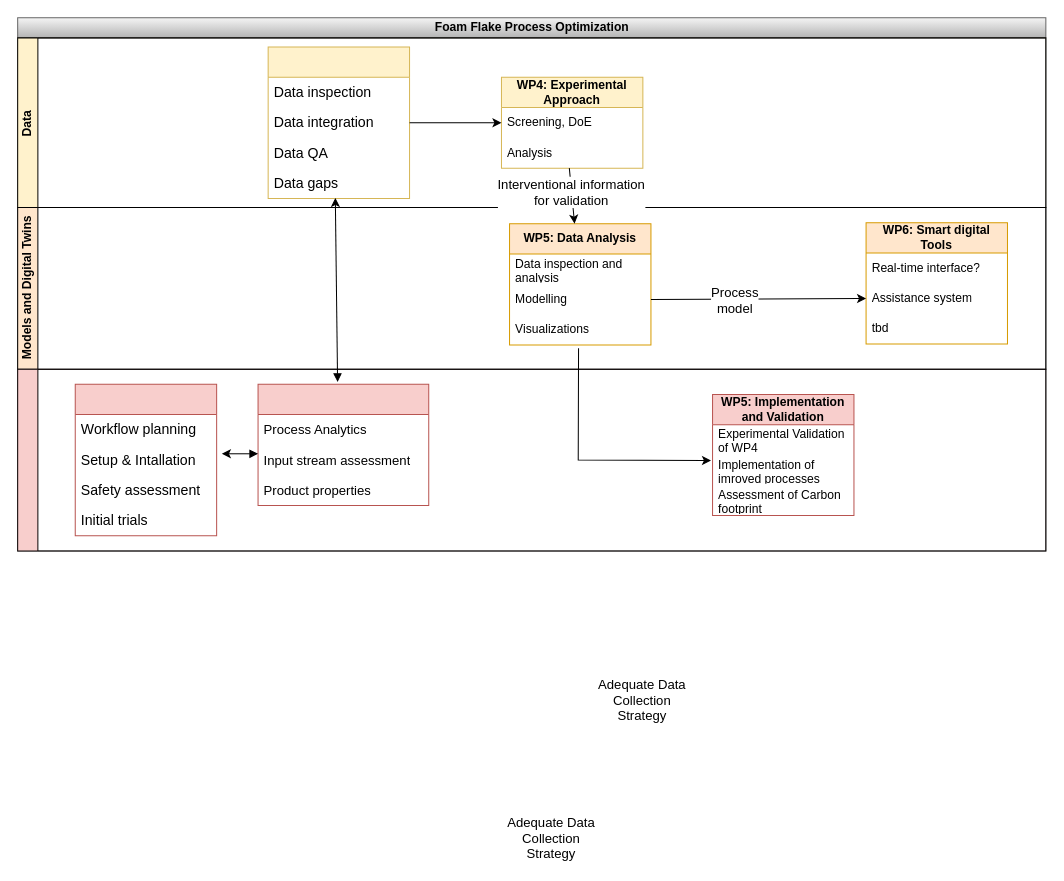
Some shapes in this 1064 by 881 pixel diagram are drawn without their labels. The shapes that lost their labels are listed below. From the top down, each one's box as (x1, y1, x2, y2) in pixels, then its label:
(267, 46, 410, 198): WP3: Data Assessment
(74, 383, 217, 536): WP1: PIlot Plant
(257, 383, 429, 506): WP2: Add. Measurement
(17, 368, 1046, 551): Process Implementation
